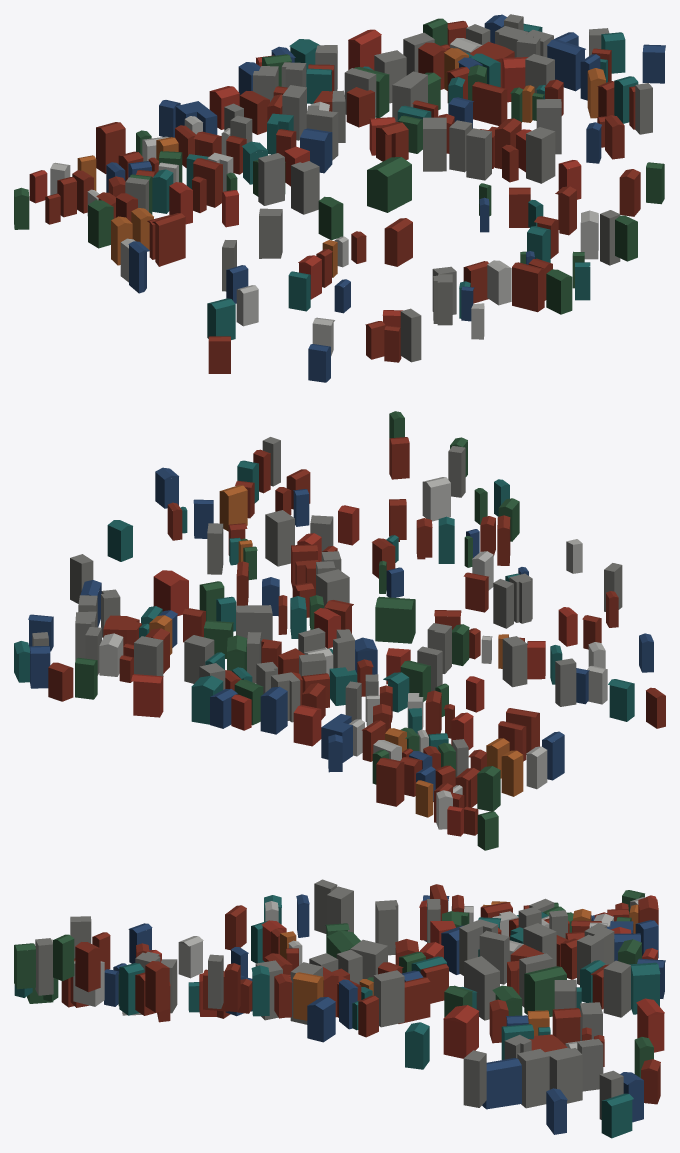
File: near-17-109456-59495.34b8f194.glb
The picture shows the model from 3 angles, top to bottom: view 1: azimuth 30°, elevation 25°; view 2: azimuth 150°, elevation 25°; view 3: azimuth 270°, elevation 25°; orthographic projection. The views are drawn at different scales.
Size of the model in its own units: 298 by 103 by 300.
